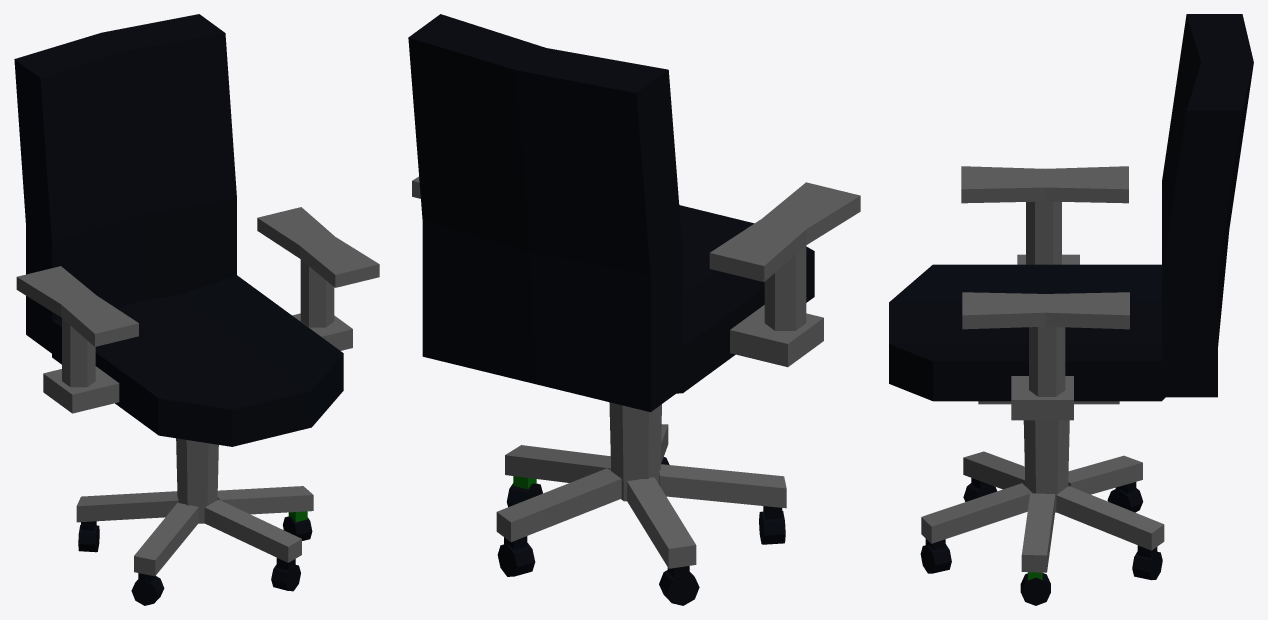
The model's file is OfficeChair.fbx.
The picture shows the model from 3 angles, left to right: view 1: azimuth 30°, elevation 25°; view 2: azimuth 150°, elevation 25°; view 3: azimuth 270°, elevation 25°; orthographic projection. The views are drawn at different scales.
Parts seen in each view (by area): view 1: OfficeChair; view 2: OfficeChair; view 3: OfficeChair.
Boxes of the visible parts, x1=… form: OfficeChair: x1=14, y1=14, x2=379, y2=605; OfficeChair: x1=408, y1=14, x2=860, y2=605; OfficeChair: x1=889, y1=14, x2=1253, y2=605.
Size of the model in its own units: 87.05 by 133 by 89.99.
